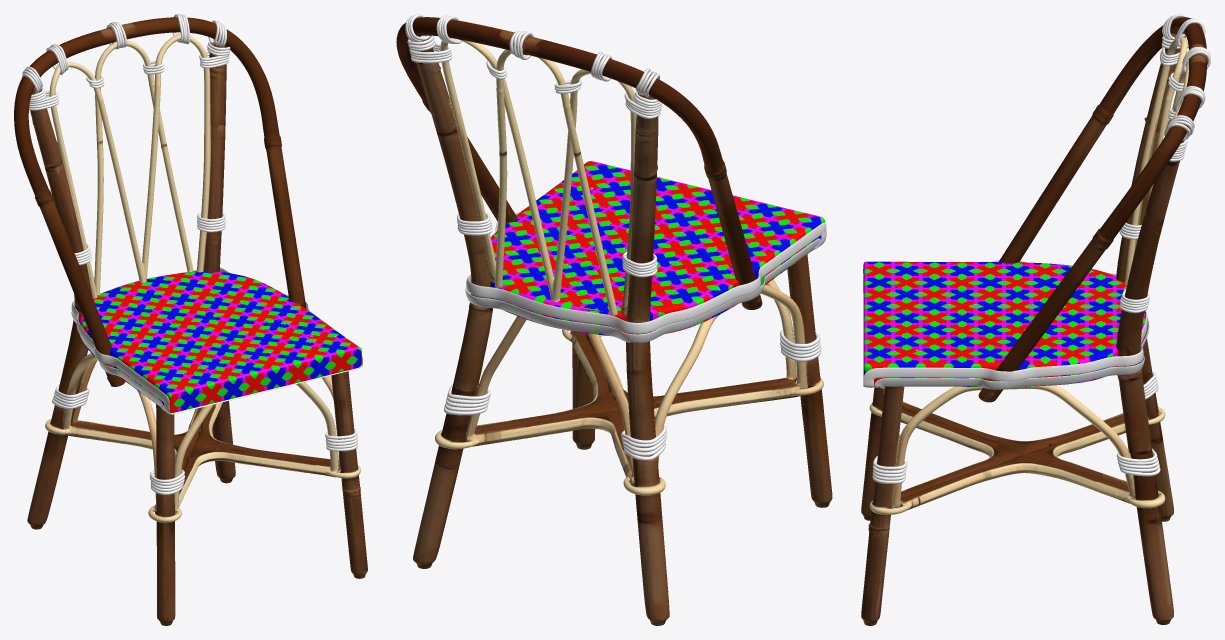
File: harpe-maille.glb
3 views of the same model, side by side, from view 1: azimuth 30°, elevation 25°; view 2: azimuth 150°, elevation 25°; view 3: azimuth 270°, elevation 25° (orthographic). The views are drawn at different scales.
Visible parts, largest first — view 1: mesh_structure, mesh_tressage, mesh_laniere; view 2: mesh_structure, mesh_tressage, mesh_laniere; view 3: mesh_structure, mesh_tressage, mesh_laniere.
Boxes of the visible parts, box(x1,y1,x2,y2) form: mesh_structure: box(14, 17, 367, 625); mesh_tressage: box(79, 271, 361, 413); mesh_laniere: box(22, 14, 362, 494); mesh_structure: box(396, 17, 832, 625); mesh_tressage: box(490, 161, 824, 335); mesh_laniere: box(405, 14, 826, 460); mesh_structure: box(861, 17, 1207, 625); mesh_tressage: box(863, 261, 1146, 386); mesh_laniere: box(863, 14, 1210, 483).
Size of the model in its own units: 0.5059 by 0.9058 by 0.549.
Materials: 3 (2 with a texture image).
